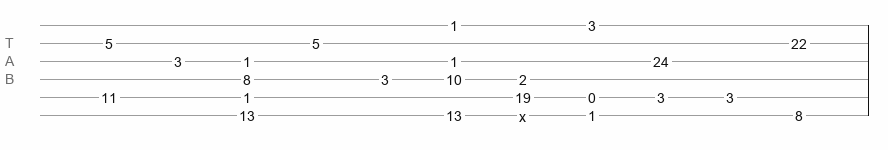0: (588, 90, 596, 100)
1: (243, 90, 251, 100), (243, 54, 251, 64), (450, 54, 458, 64), (450, 18, 458, 28), (588, 108, 596, 118)
10: (446, 72, 462, 82)
11: (101, 90, 117, 100)
13: (239, 108, 255, 118), (446, 108, 462, 118)
19: (515, 90, 531, 100)
2: (519, 72, 527, 82)
22: (791, 36, 807, 46)
24: (653, 54, 669, 64)
3: (174, 54, 182, 64), (381, 72, 389, 82), (588, 18, 596, 28), (657, 90, 665, 100), (726, 90, 734, 100)
5: (105, 36, 113, 46), (312, 36, 320, 46)
8: (243, 72, 251, 82), (795, 108, 803, 118)
x: (519, 109, 526, 117)
